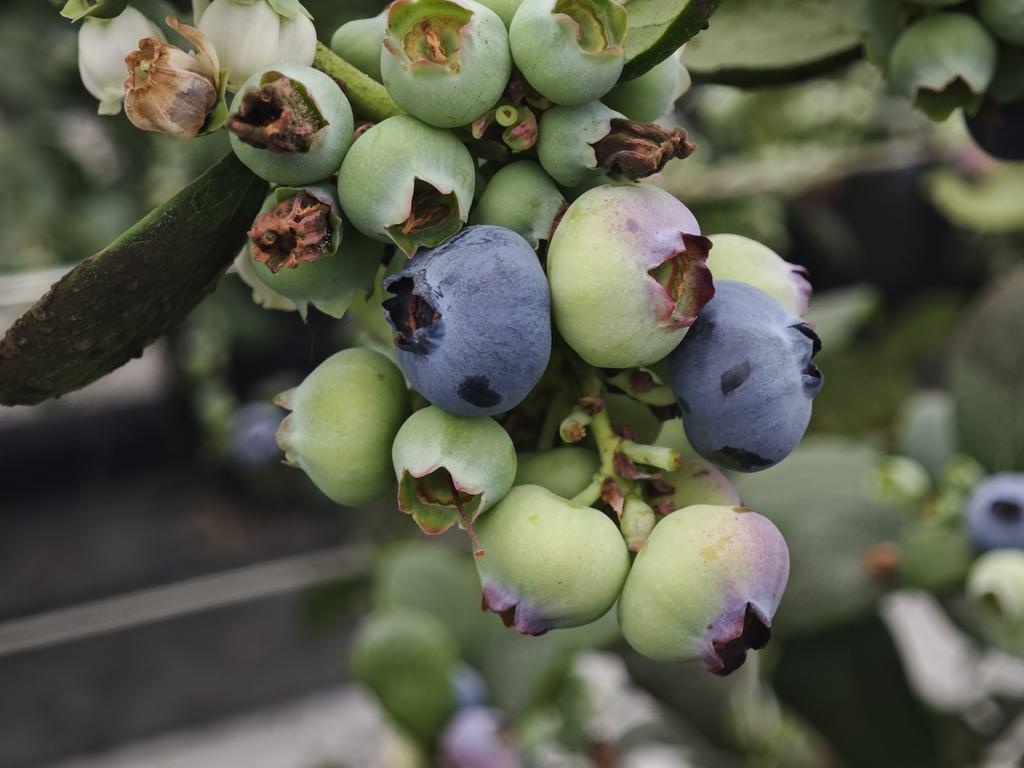RipeBlueBerry: (383, 222, 556, 423), (673, 277, 829, 476)
UnripeBlueBerry: (545, 175, 719, 375), (617, 503, 796, 678), (465, 479, 633, 641)
